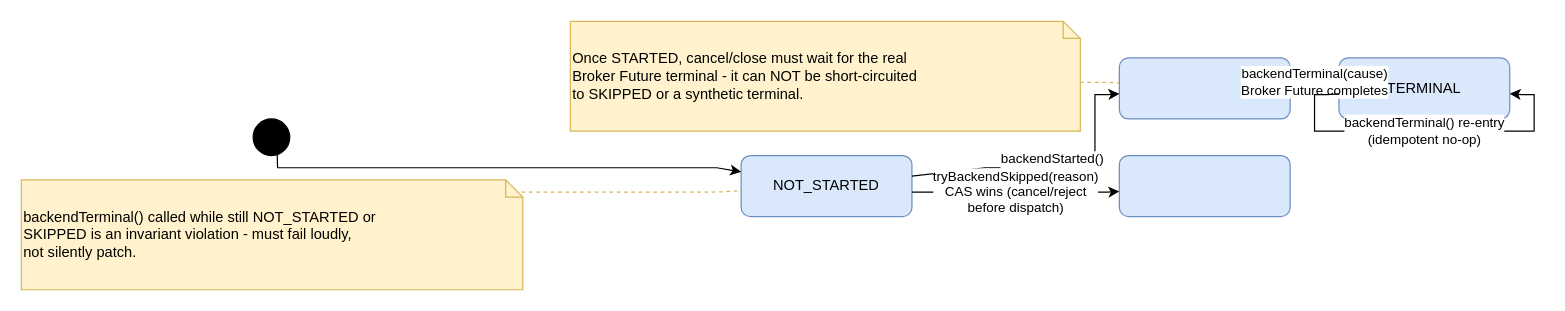
Image size: 1565x311. Some labels were removed from this diagram. The shapes that lost their labels are listed below. From the top down, each one's box as (x1, y1, x2, y2) in pixels, then its label:
(1118, 57, 1290, 119): STARTED
(1118, 154, 1290, 217): SKIPPED
